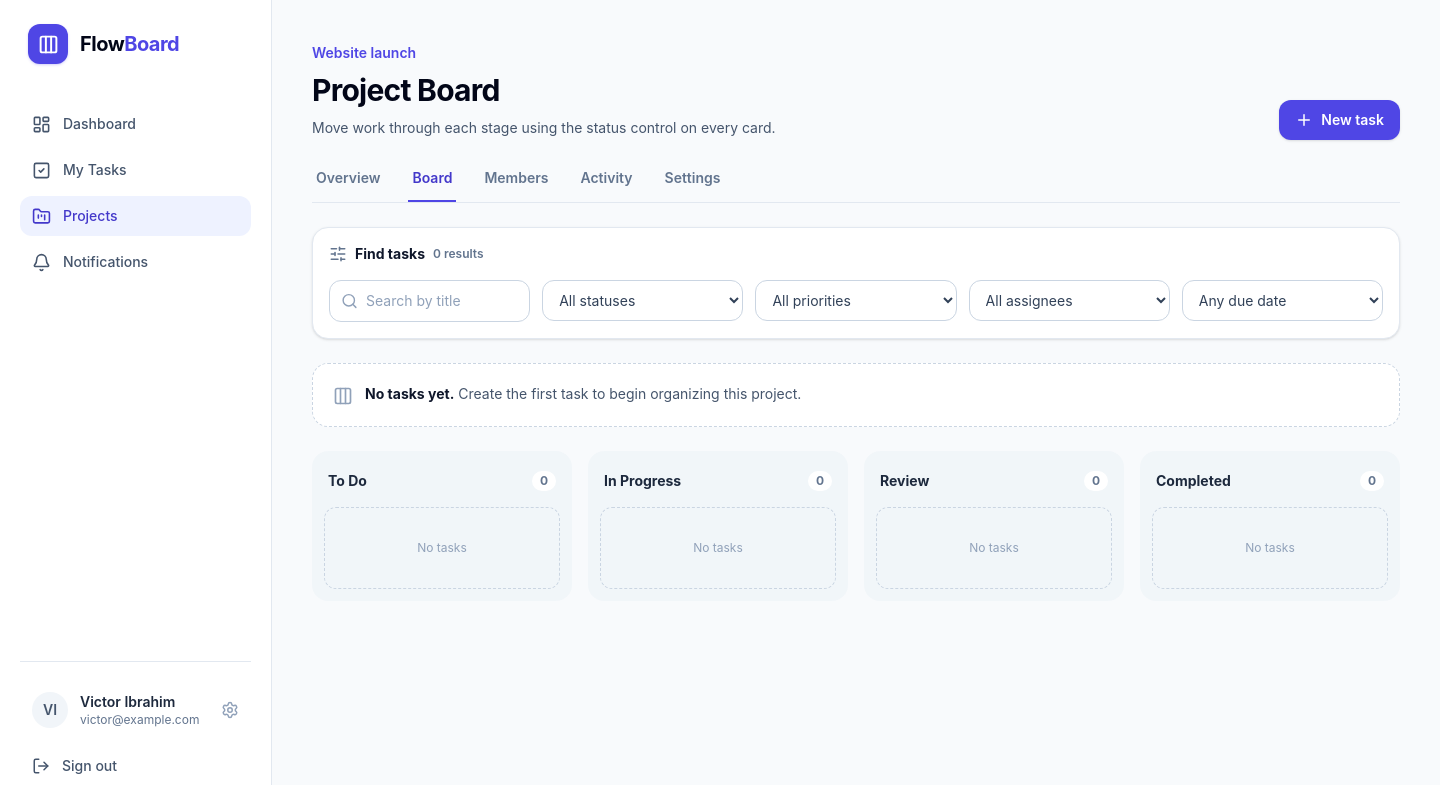
it: FlowBoard task UI › creates a task from the board and refreshes the correct column
Click the button "New task" at (1340, 120), box [1279, 100, 1400, 140]
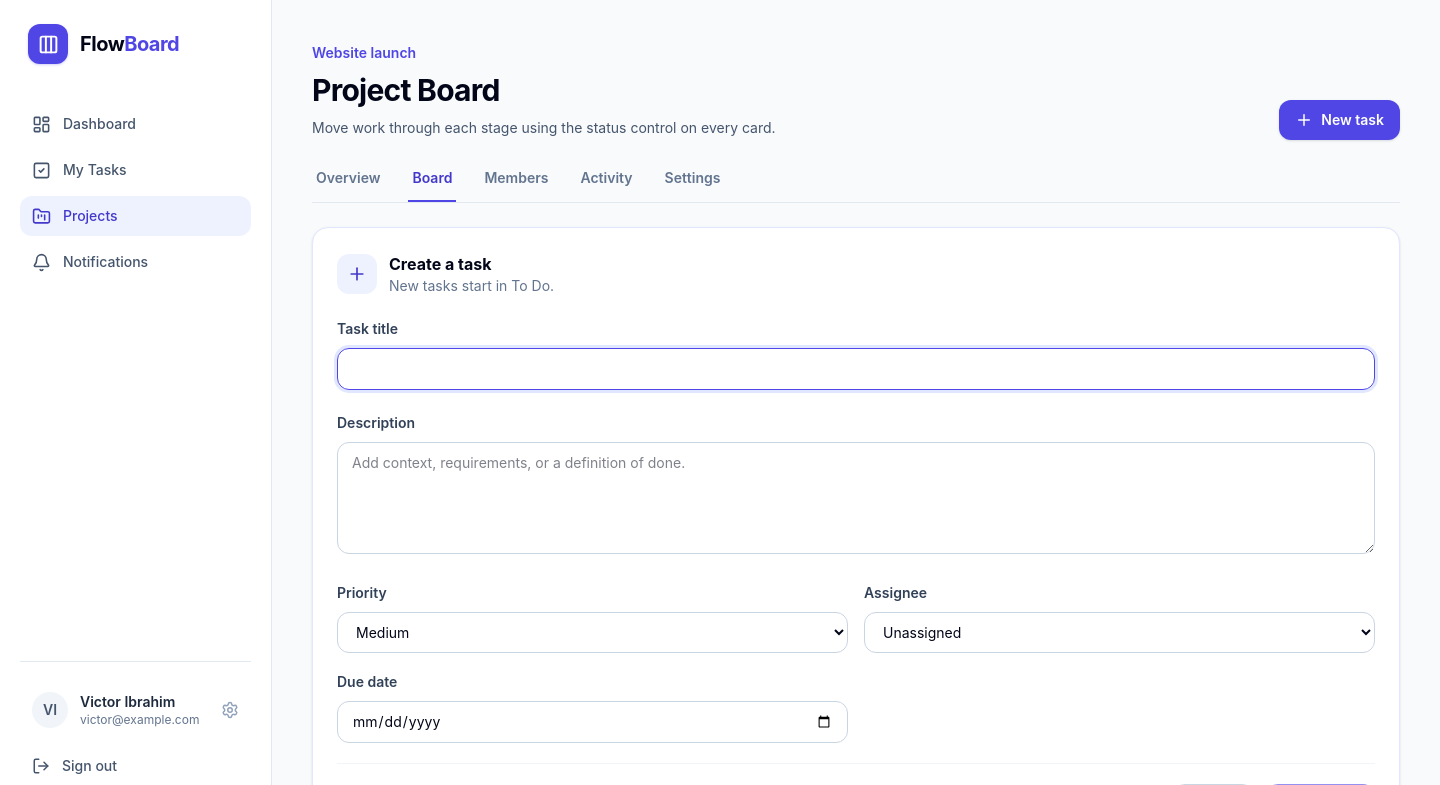
Type "Build the project board" into the field labelled "Task title" at (856, 369), box [337, 348, 1375, 390]
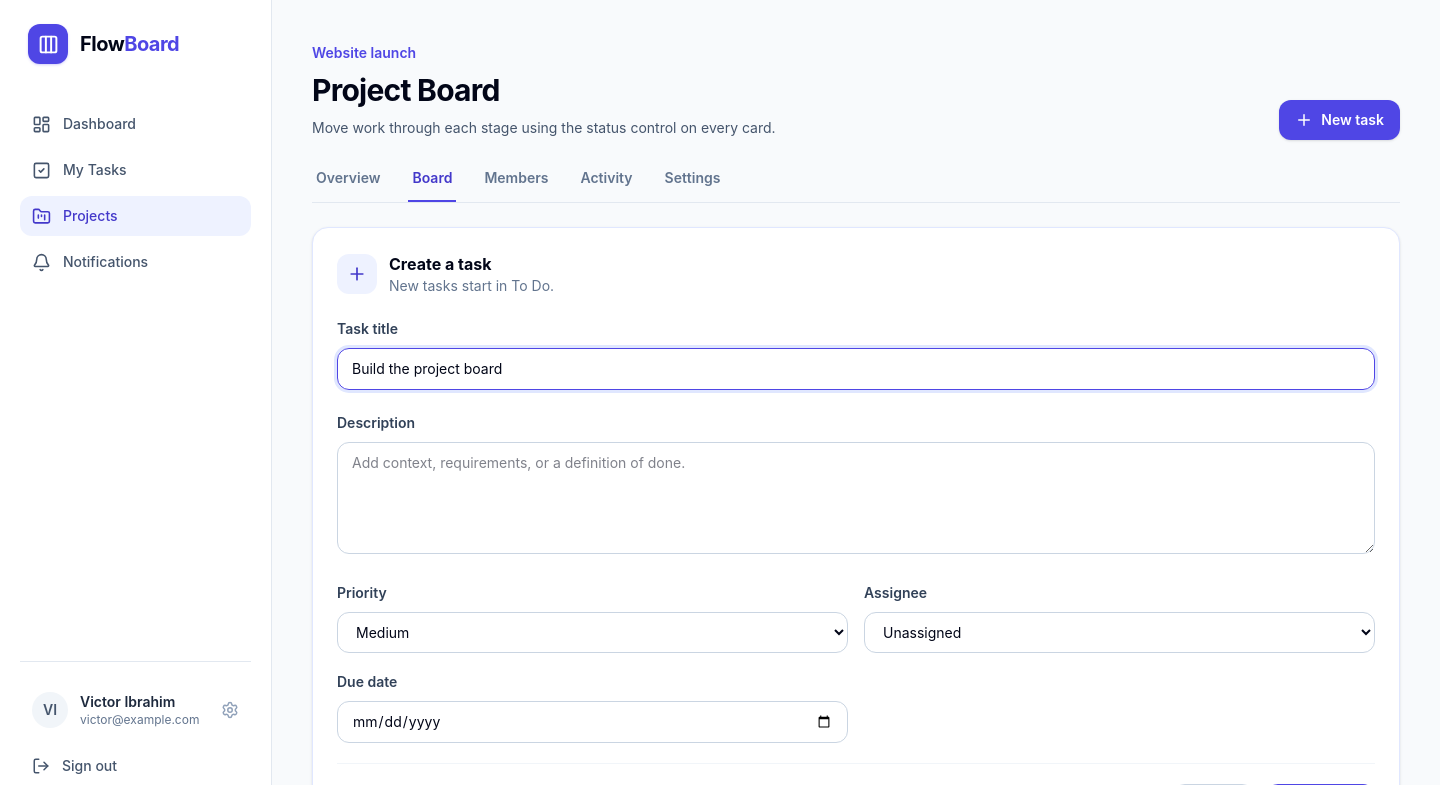
Select "High" in the dropdown labelled "Priority" at (592, 632), box [337, 612, 848, 653]
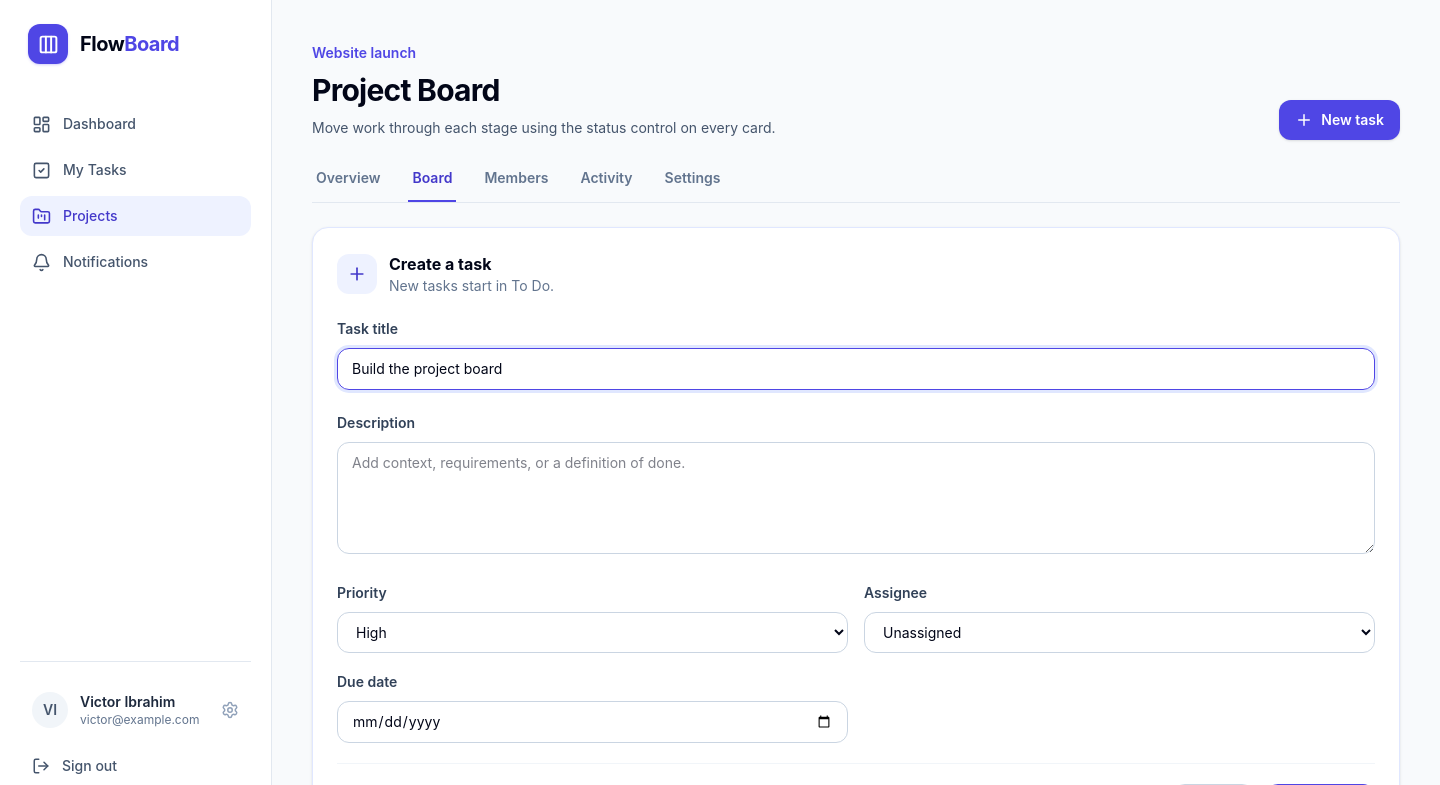
Select "Amina Bello" in the dropdown labelled "Assignee" at (1120, 632), box [864, 612, 1375, 653]
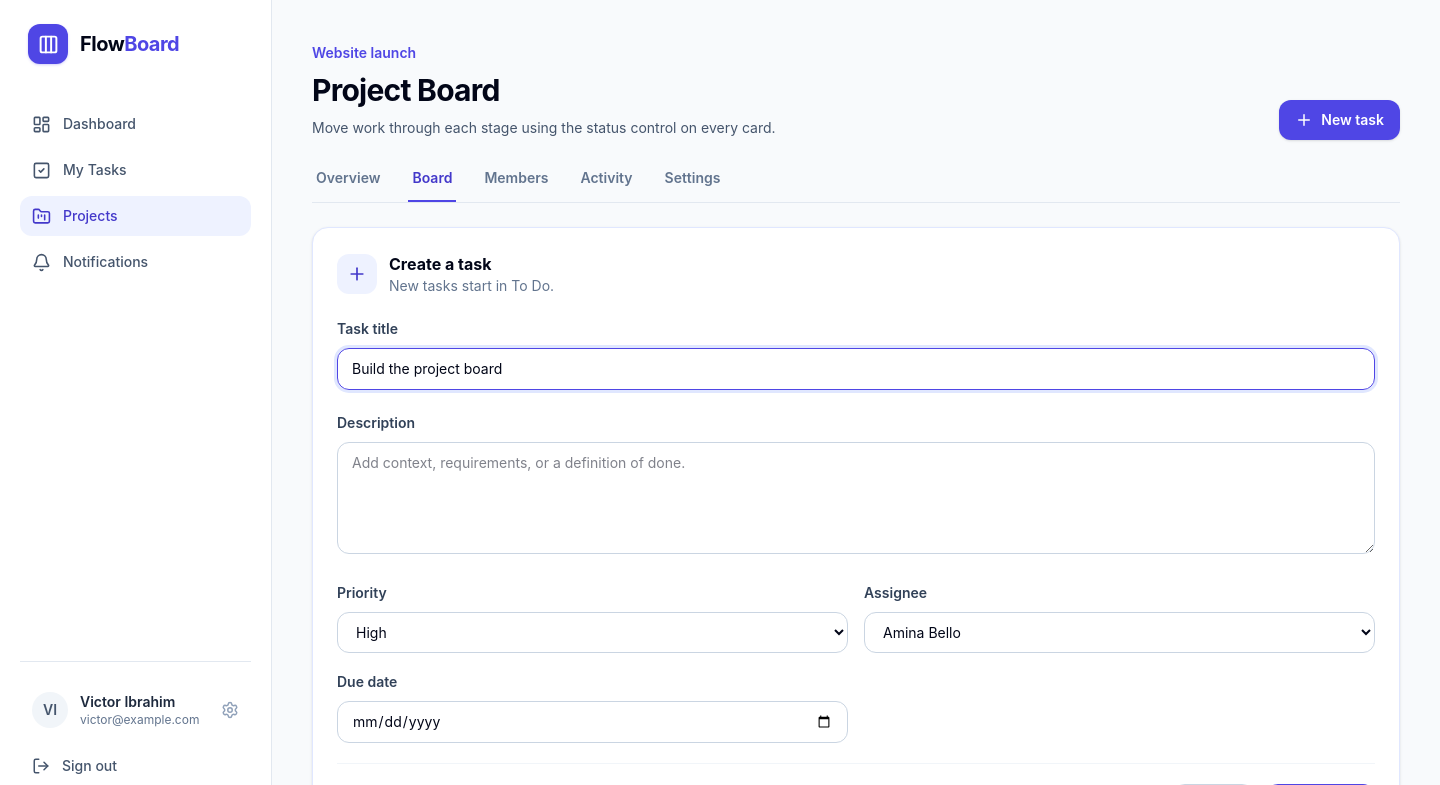
Type "2026-09-10" into the date field labelled "Due date" at (592, 722), box [337, 701, 848, 743]
(page scrolled)
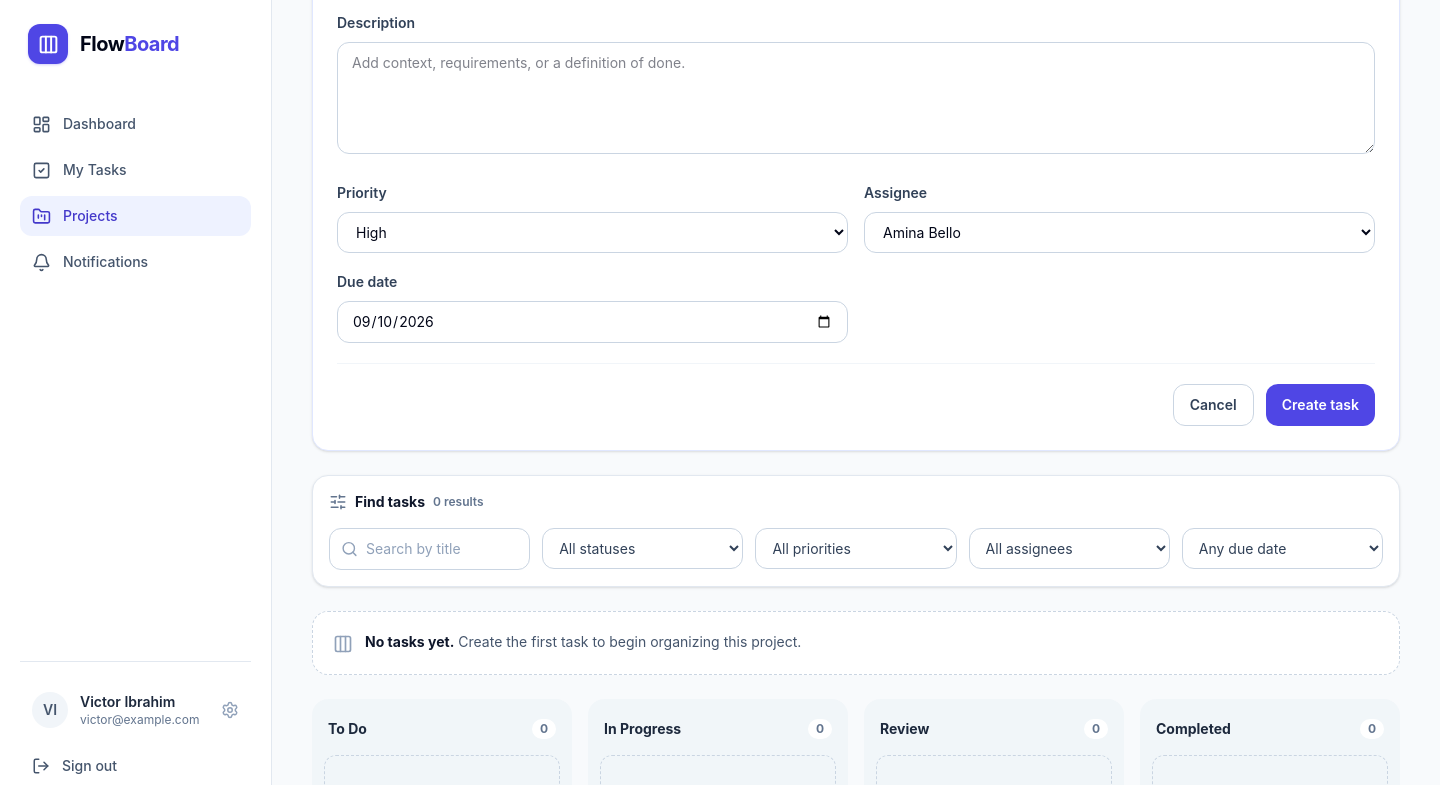
Click the button "Create task" at (1320, 405), box [1266, 384, 1375, 426]
(page scrolled)
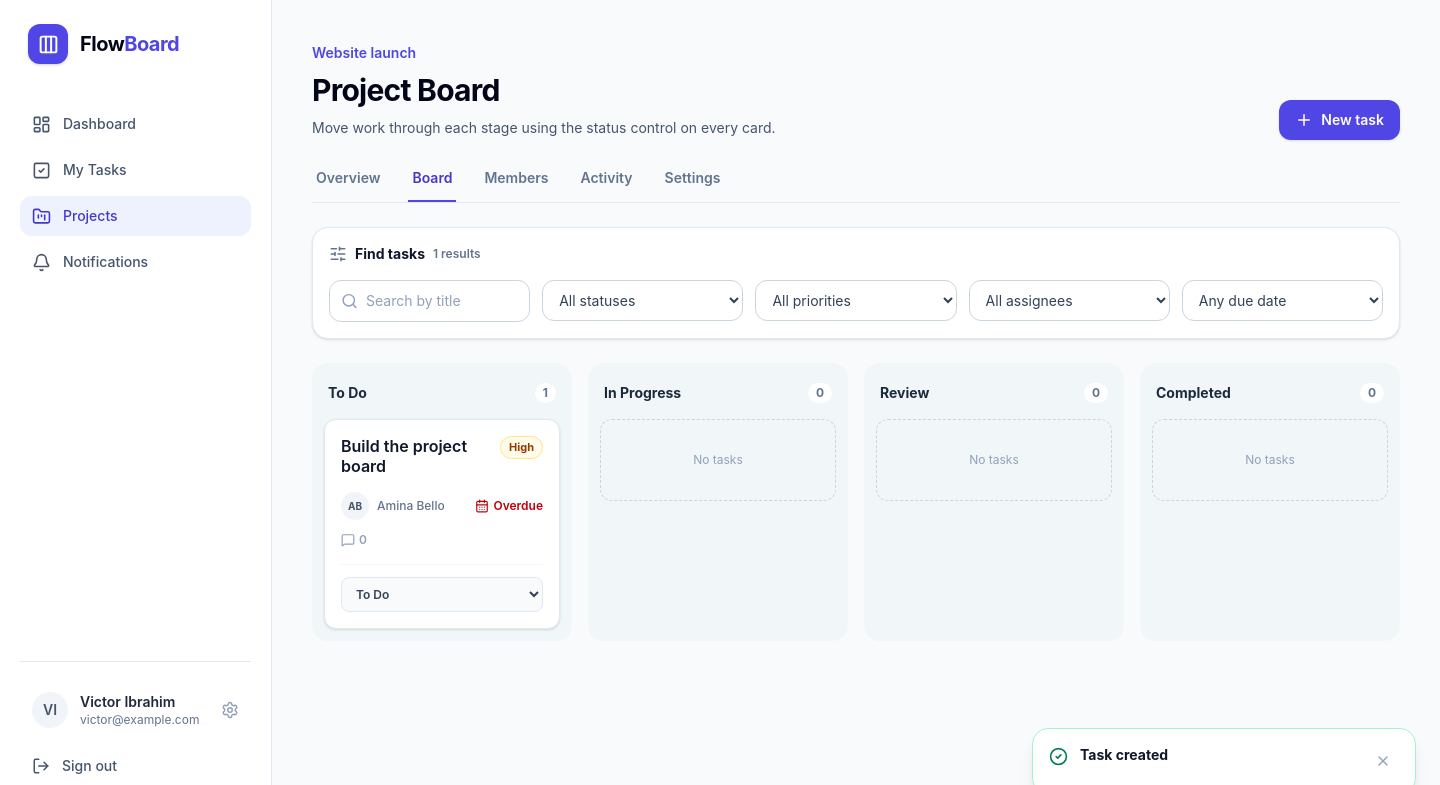
Check: the link "Build the project board" is shown, box [341, 436, 488, 476]
